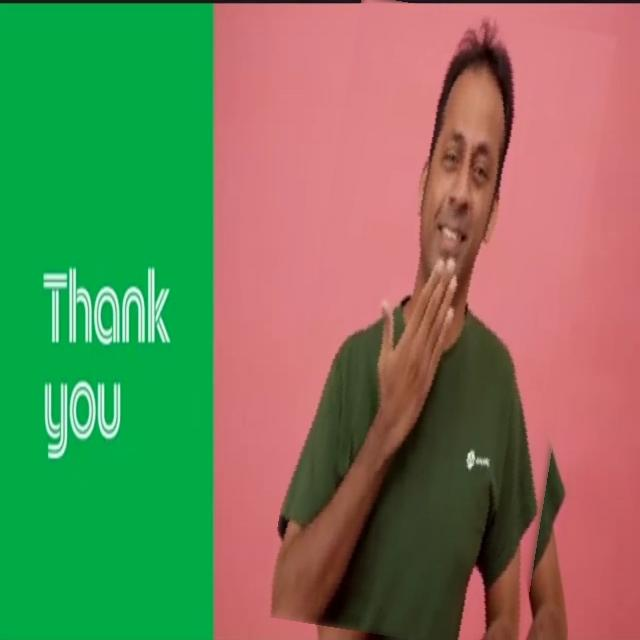ThankYou: (287, 3, 593, 640)
